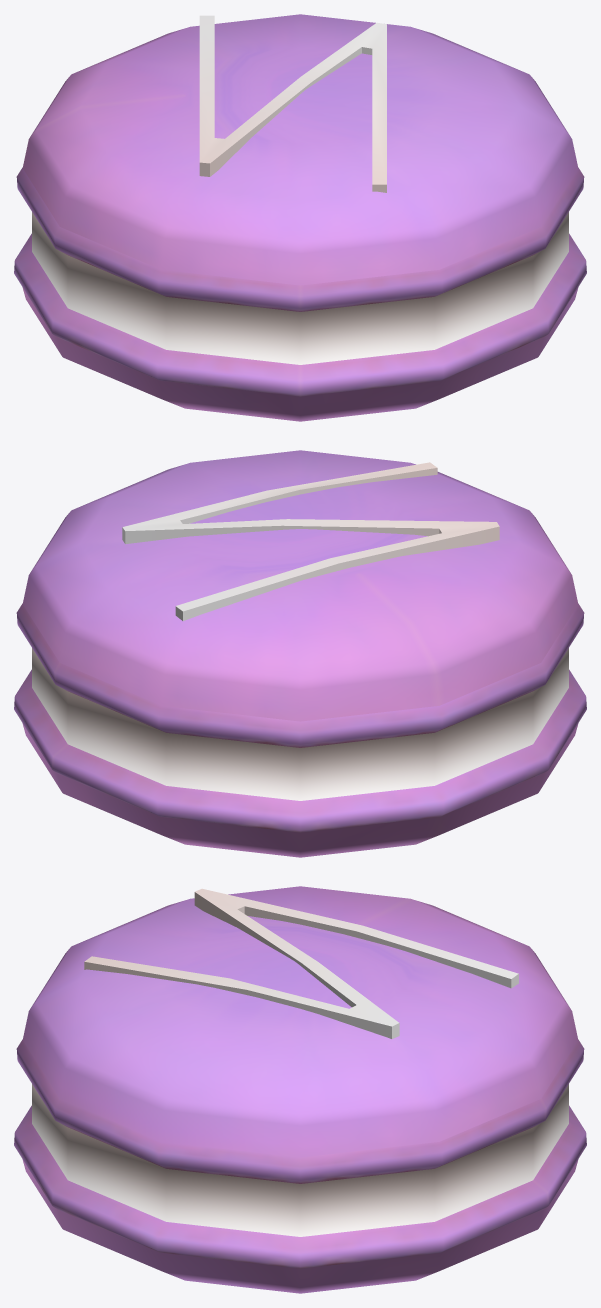
Rendered from Doll_OB_Cake_002.fbx.
3 views of the same model, one above another, from view 1: azimuth 30°, elevation 25°; view 2: azimuth 150°, elevation 25°; view 3: azimuth 270°, elevation 25° (orthographic).
Visible parts, largest first — view 1: Doll_OB_Cake_002; view 2: Doll_OB_Cake_002; view 3: Doll_OB_Cake_002.
Part boxes in pixels (box(x1,y1,x2,y2)): Doll_OB_Cake_002: box(14, 14, 586, 421); Doll_OB_Cake_002: box(14, 450, 586, 857); Doll_OB_Cake_002: box(14, 886, 586, 1293).
Bounding box in the file's own units: 0.5429 × 0.2721 × 0.5429.
1 material, 1 textured.
